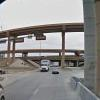Bridge: (7, 15, 85, 54)
